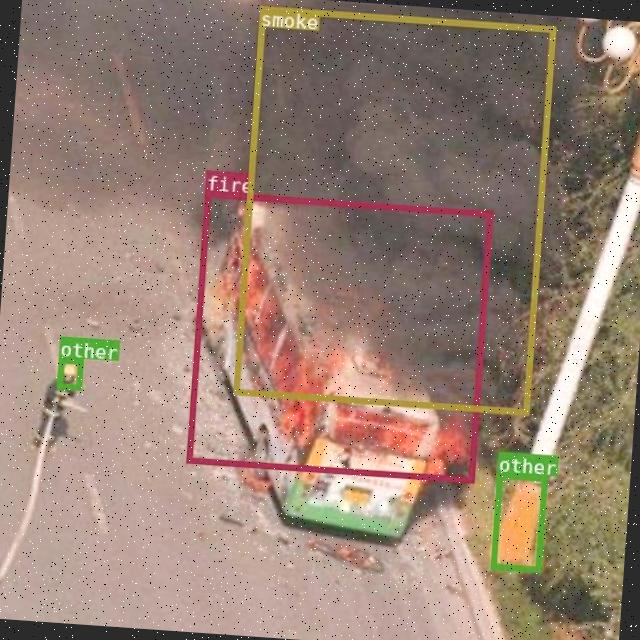fire: (184, 190, 492, 481)
smoke: (232, 4, 554, 414)
